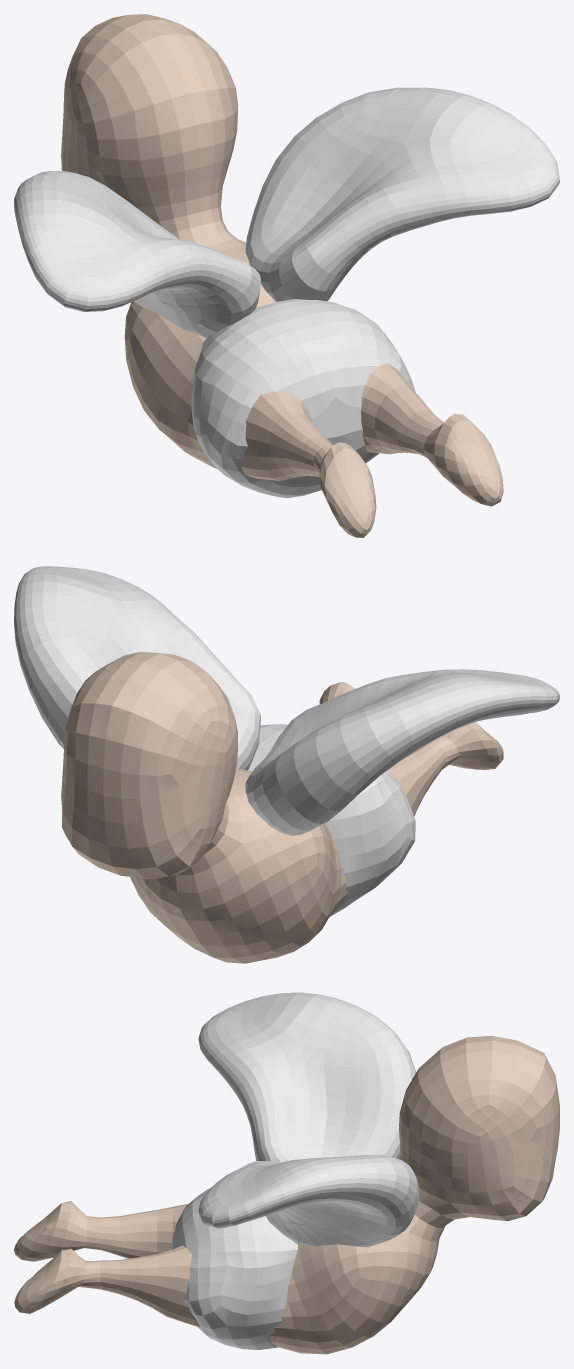
Rendered from Cupid Model.fbx.
3 views of the same model, one above another, from view 1: azimuth 30°, elevation 25°; view 2: azimuth 150°, elevation 25°; view 3: azimuth 270°, elevation 25° (orthographic). The views are drawn at different scales.
Visible parts, largest first — view 1: PM3D_Sphere3D, PolySphere, PM3D_Sphere3D1; view 2: PolySphere, PM3D_Sphere3D, PM3D_Sphere3D1; view 3: PolySphere, PM3D_Sphere3D, PM3D_Sphere3D1.
Boxes of the visible parts, box(x1,y1,x2,y2) form: PM3D_Sphere3D: box(14, 87, 559, 337); PolySphere: box(61, 14, 503, 537); PM3D_Sphere3D1: box(191, 299, 415, 497); PolySphere: box(61, 651, 503, 963); PM3D_Sphere3D: box(14, 566, 559, 835); PM3D_Sphere3D1: box(248, 724, 415, 916); PolySphere: box(14, 1035, 559, 1354); PM3D_Sphere3D: box(198, 992, 419, 1247); PM3D_Sphere3D1: box(171, 1188, 297, 1349).
Bounding box in the file's own units: 0.0113 × 0.00774 × 0.0125.
